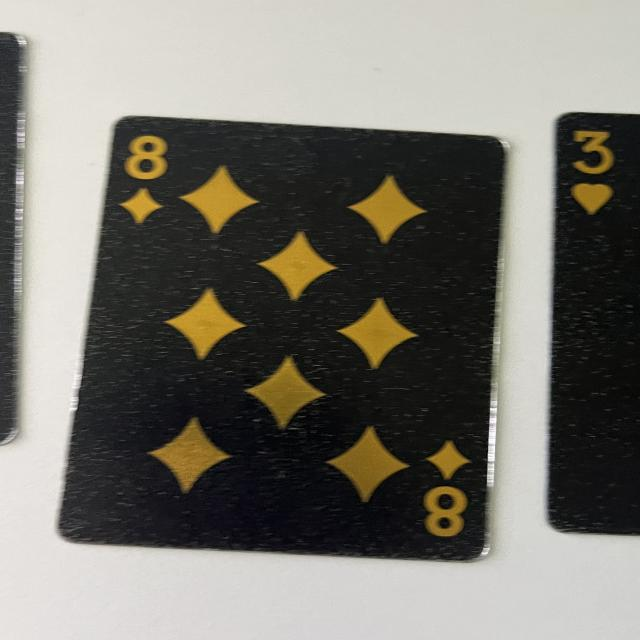3H: (563, 123, 626, 225)
8D: (422, 436, 475, 543), (116, 127, 172, 226)
